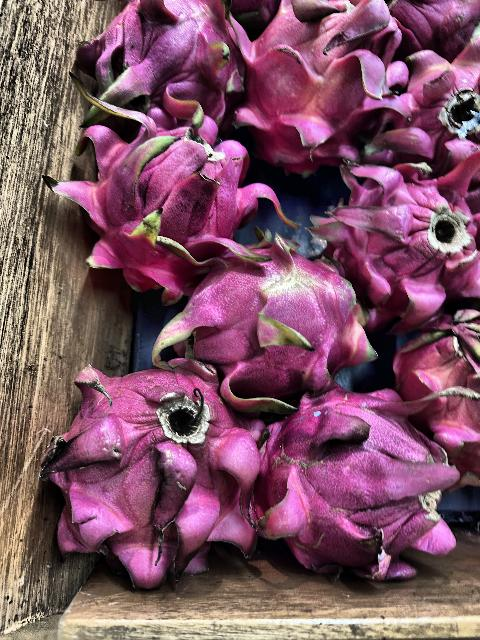buah-naga-belum-matang: (175, 227, 359, 391), (386, 307, 480, 479)
buah-naga-matang: (48, 354, 262, 594), (258, 384, 460, 588), (52, 105, 266, 282), (314, 136, 480, 310), (226, 0, 370, 152), (72, 0, 236, 121), (370, 23, 480, 153)
